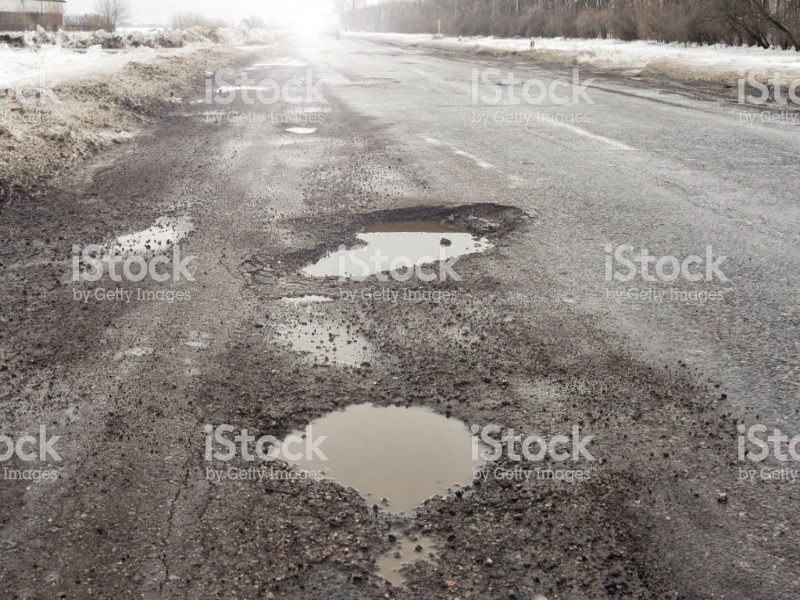pothole: (254, 390, 493, 532), (291, 201, 527, 270)
